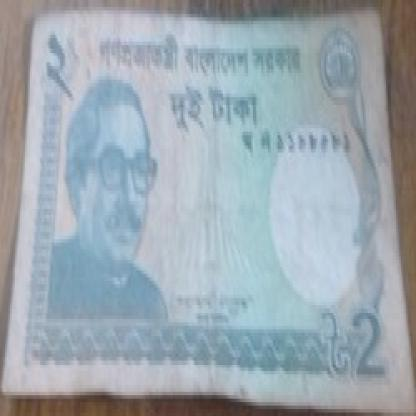two taka: (338, 288, 392, 395), (35, 28, 78, 107)
